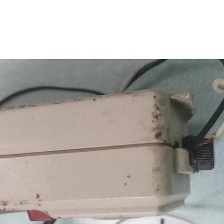three_eye_plug: (0, 84, 220, 224)
